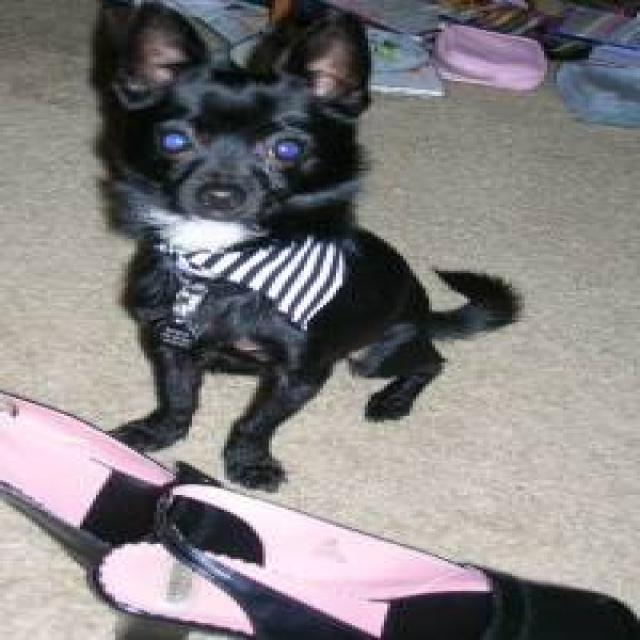dog-chihuahua: (96, 2, 534, 495)
